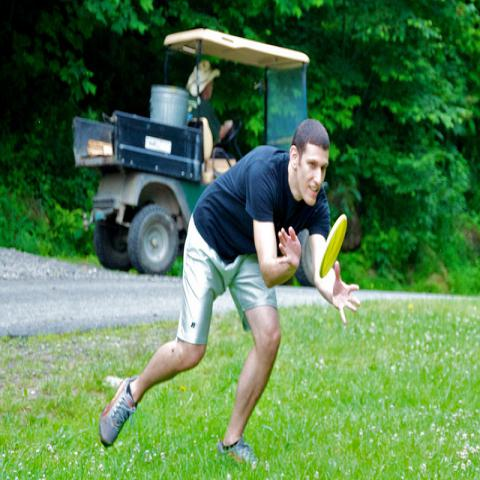car: (76, 28, 311, 274)
